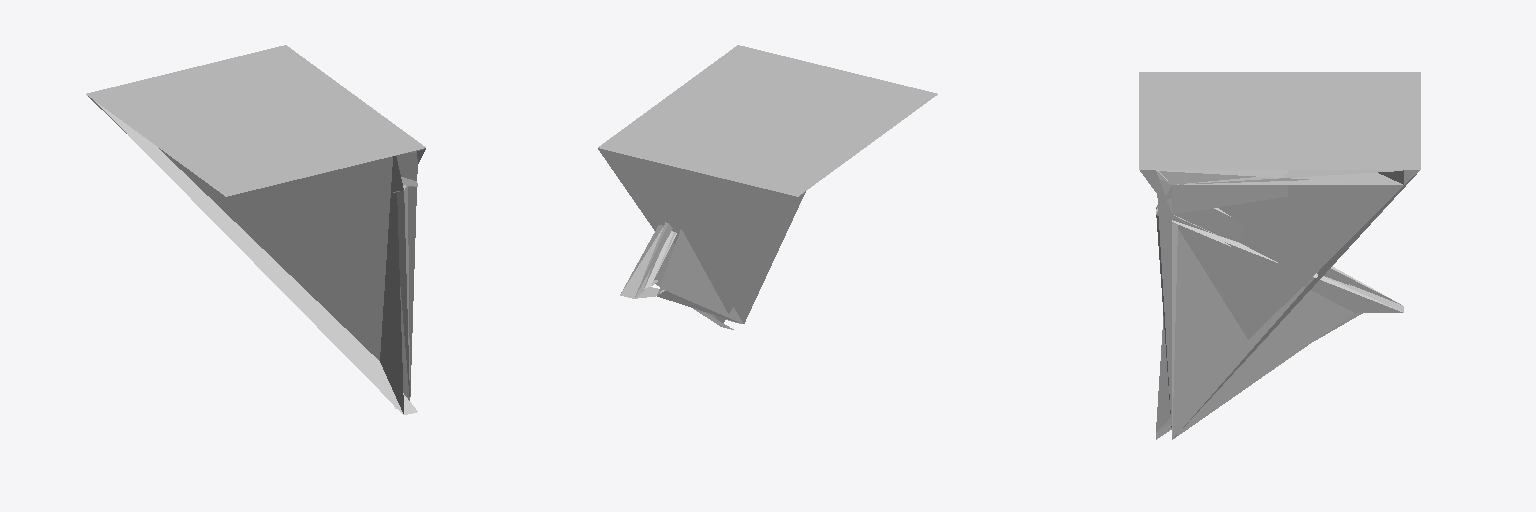
Rendered from Shower Stall 1.obj.
3 renders of one model, left to right at view 1: azimuth 30°, elevation 25°; view 2: azimuth 150°, elevation 25°; view 3: azimuth 270°, elevation 25°, orthographic.
Size of the model in its own units: 14 by 18 by 17.